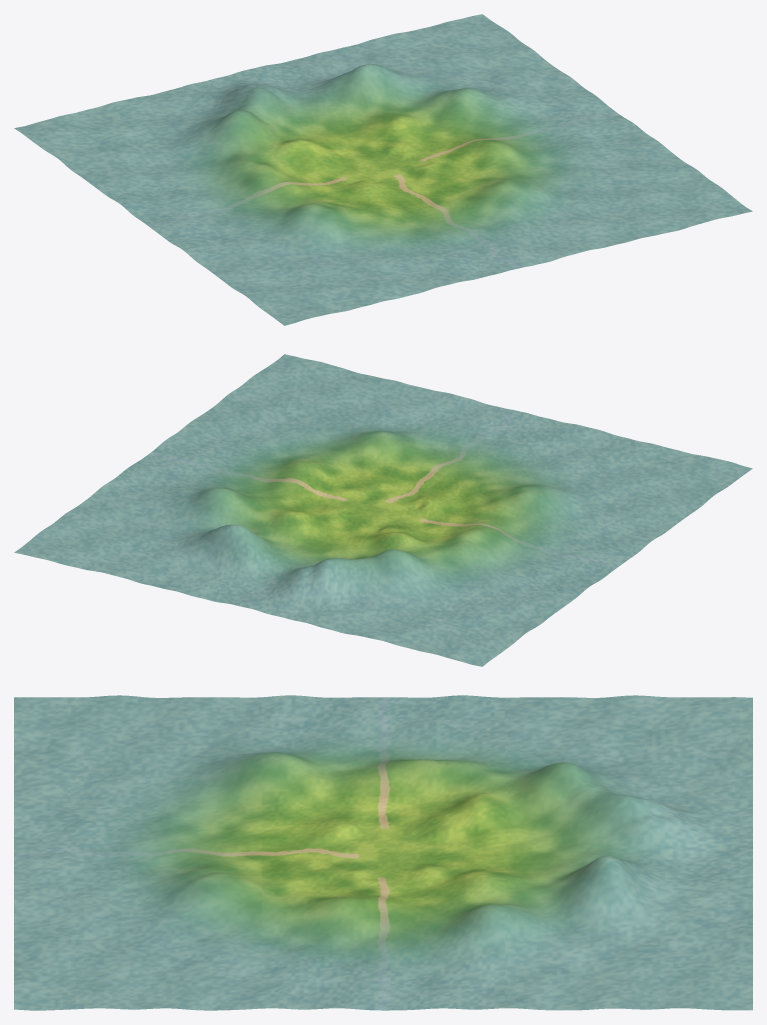
Rendered from RollingMeadow.fbx.
3 renders of one model, top to bottom at view 1: azimuth 30°, elevation 25°; view 2: azimuth 150°, elevation 25°; view 3: azimuth 270°, elevation 25°, orthographic. The views are drawn at different scales.
Visible parts, largest first — view 1: RollingMeadow; view 2: RollingMeadow; view 3: RollingMeadow.
Boxes of the visible parts, box(x1,y1,x2,y2) form: RollingMeadow: box(14, 14, 752, 325); RollingMeadow: box(14, 354, 752, 666); RollingMeadow: box(14, 695, 752, 1010).
Size of the model in its own units: 42400 by 2526 by 42400.
Materials: 1 (1 with a texture image).
